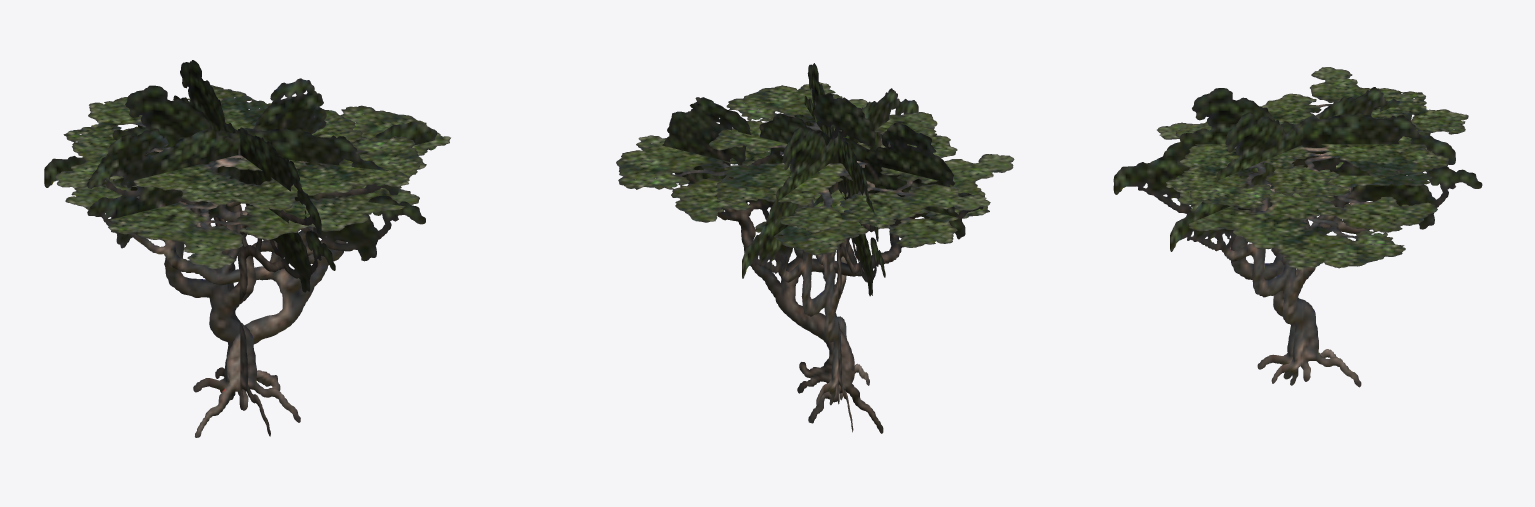
3 views of the same model, side by side, from view 1: azimuth 30°, elevation 25°; view 2: azimuth 150°, elevation 25°; view 3: azimuth 270°, elevation 25° (orthographic). The views are drawn at different scales.
Bounding box in the file's own units: 17.77 × 14.57 × 17.67.
1 material, 1 textured.
